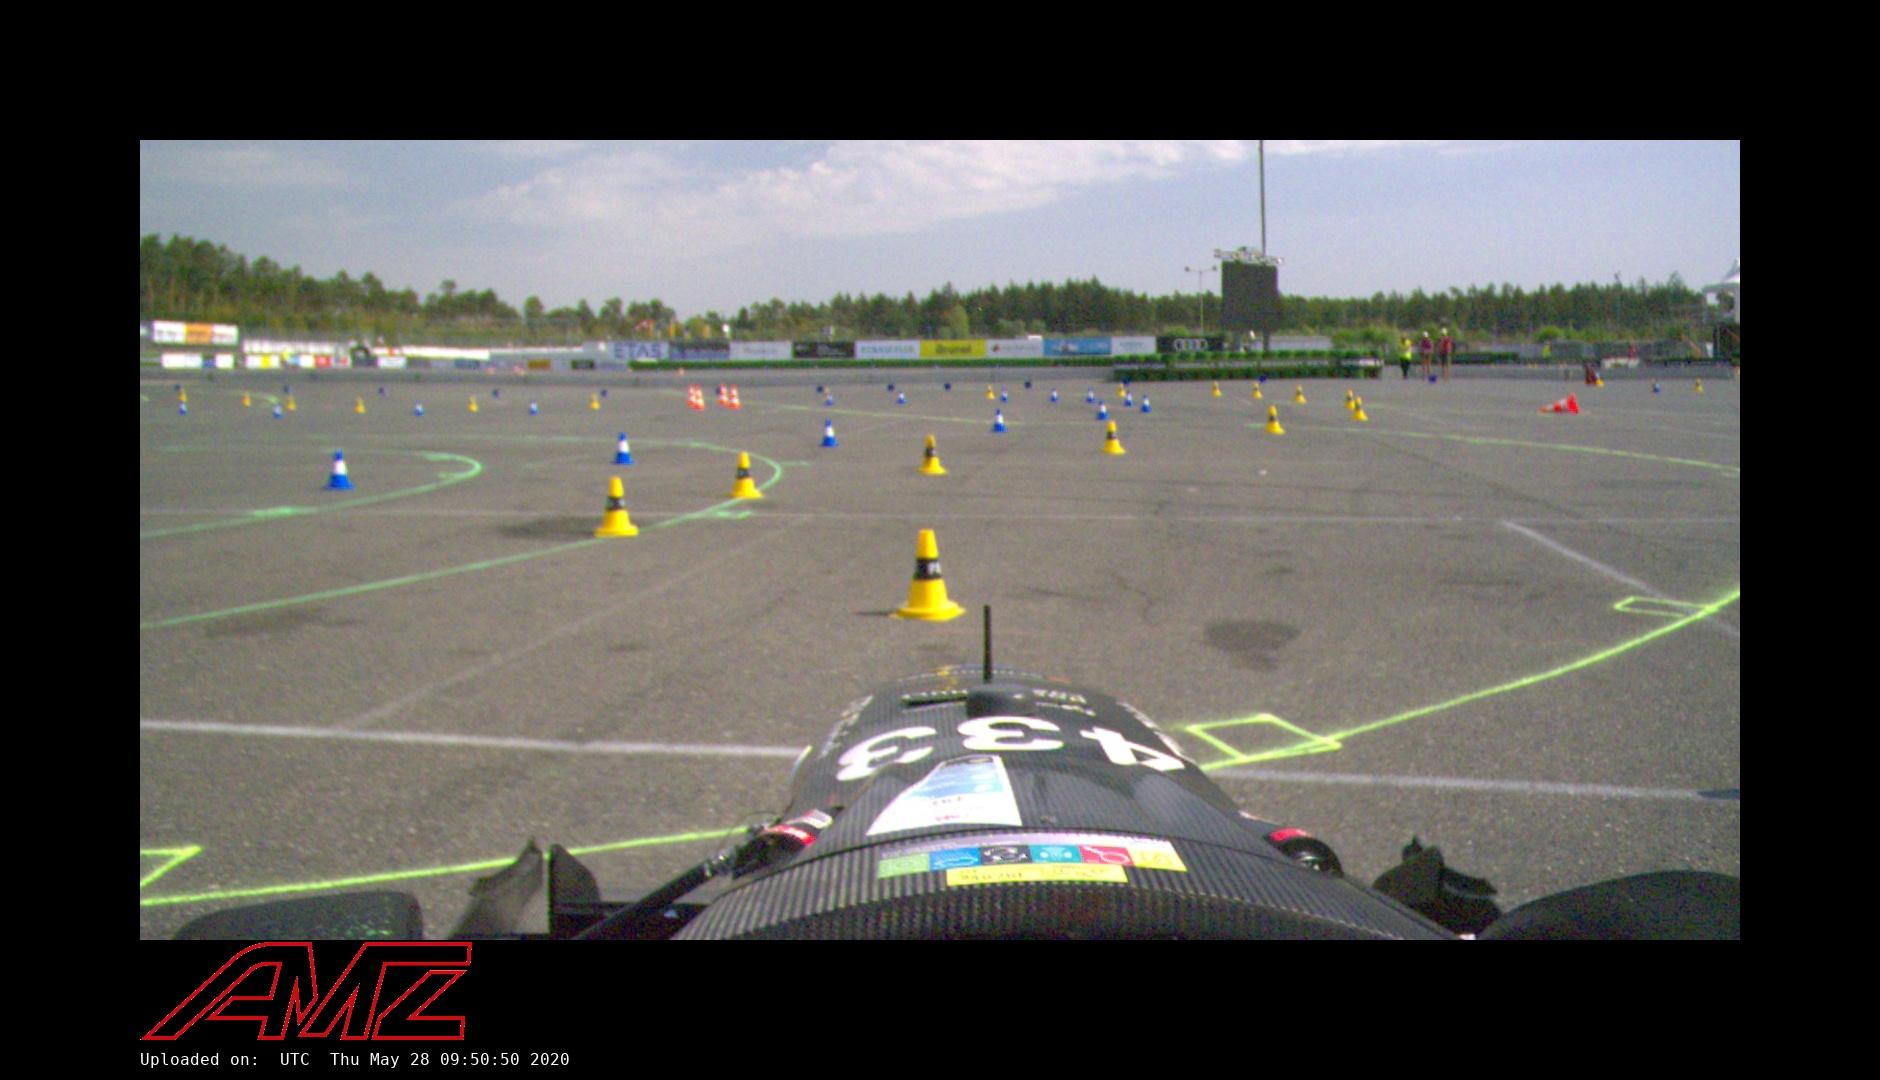blue_cone: (609, 431, 634, 466), (817, 419, 841, 450), (989, 408, 1008, 434), (1095, 399, 1110, 421), (1139, 394, 1153, 413), (1085, 388, 1098, 404), (412, 398, 424, 416), (526, 399, 538, 415), (1047, 388, 1060, 403), (1123, 391, 1135, 407), (999, 388, 1010, 403), (825, 391, 835, 406), (896, 390, 906, 404), (1651, 380, 1660, 393)
large_orange_cone: (693, 385, 706, 411), (730, 384, 741, 410), (717, 382, 730, 406), (686, 384, 697, 406)
orange_cone: (322, 450, 355, 492), (1535, 391, 1579, 415)
yellow_cone: (887, 528, 967, 624), (593, 477, 638, 537), (726, 452, 763, 499), (915, 434, 949, 477), (1099, 421, 1129, 456), (1264, 406, 1286, 435), (1351, 397, 1367, 421), (1292, 385, 1307, 403), (1344, 390, 1356, 410), (352, 397, 365, 413), (1251, 382, 1264, 399), (467, 397, 480, 412), (1210, 380, 1221, 397), (984, 385, 996, 399), (590, 395, 600, 411), (1116, 382, 1126, 397), (1693, 379, 1703, 391)
